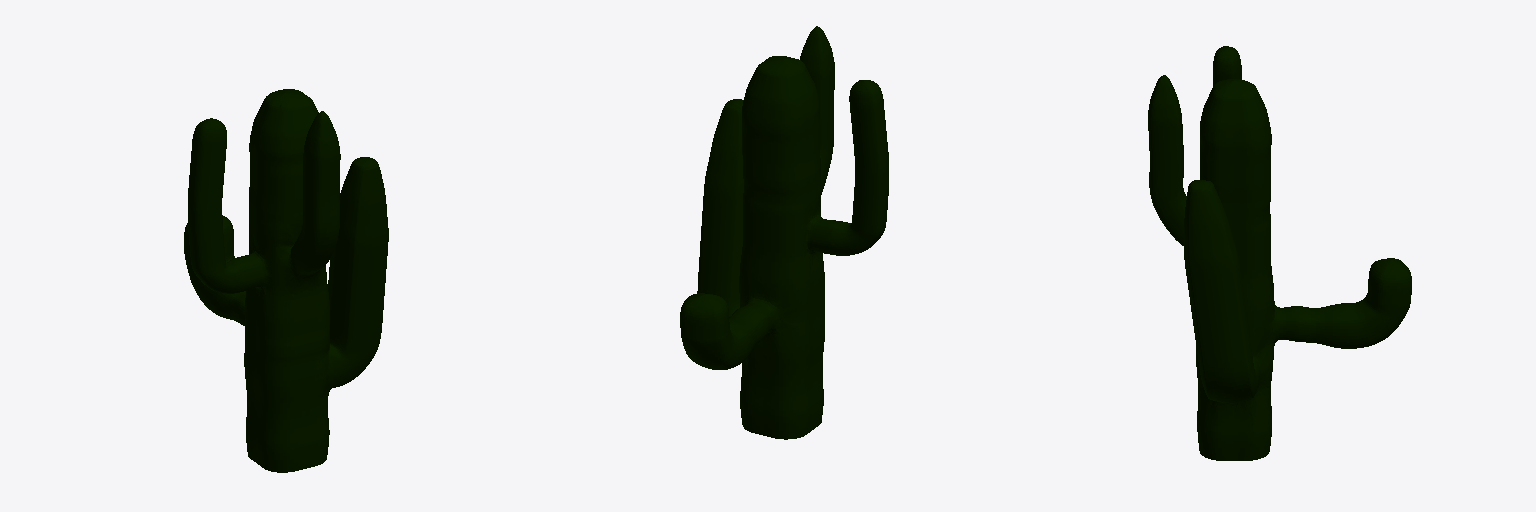
File: cactus2.obj
3 views of the same model, side by side, from view 1: azimuth 30°, elevation 25°; view 2: azimuth 150°, elevation 25°; view 3: azimuth 270°, elevation 25° (orthographic).
Visible parts, largest first — view 1: Cube_Cube.001; view 2: Cube_Cube.001; view 3: Cube_Cube.001.
Part boxes in pixels (x1,y1,x2,y2): Cube_Cube.001: (184, 89, 388, 472); Cube_Cube.001: (680, 26, 888, 439); Cube_Cube.001: (1148, 46, 1411, 460).
Bounding box in the file's own units: 2.27 × 4.38 × 2.82.